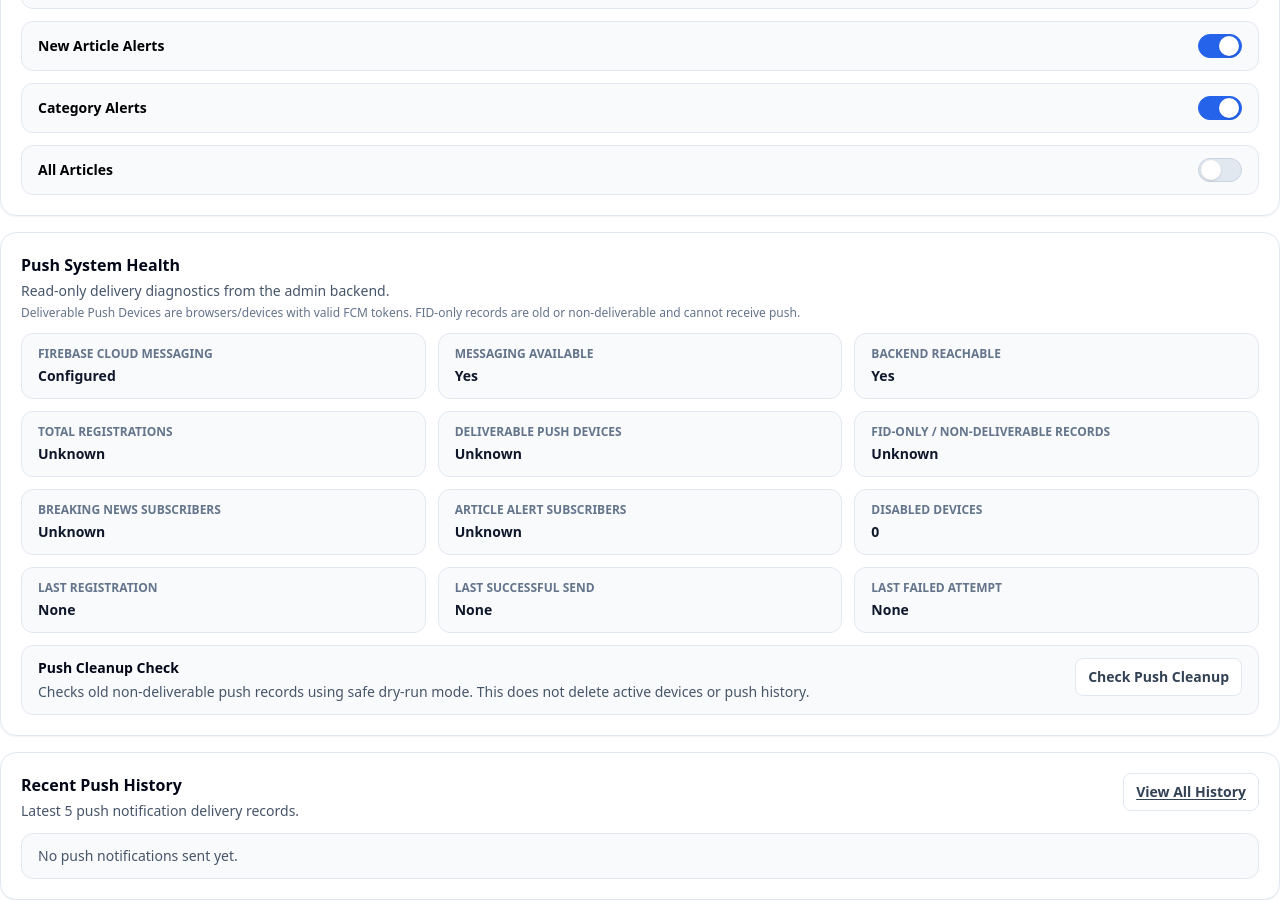
it: PushNotificationsSettings › checks cleanup preview and shows clean dry-run results when no records are eligible
(page scrolled)
Check: the text "Configured" is shown, box [38,366,116,385]
Click the button "Check Push Cleanup". click: [1159, 677]
box: [1075,658,1242,696]
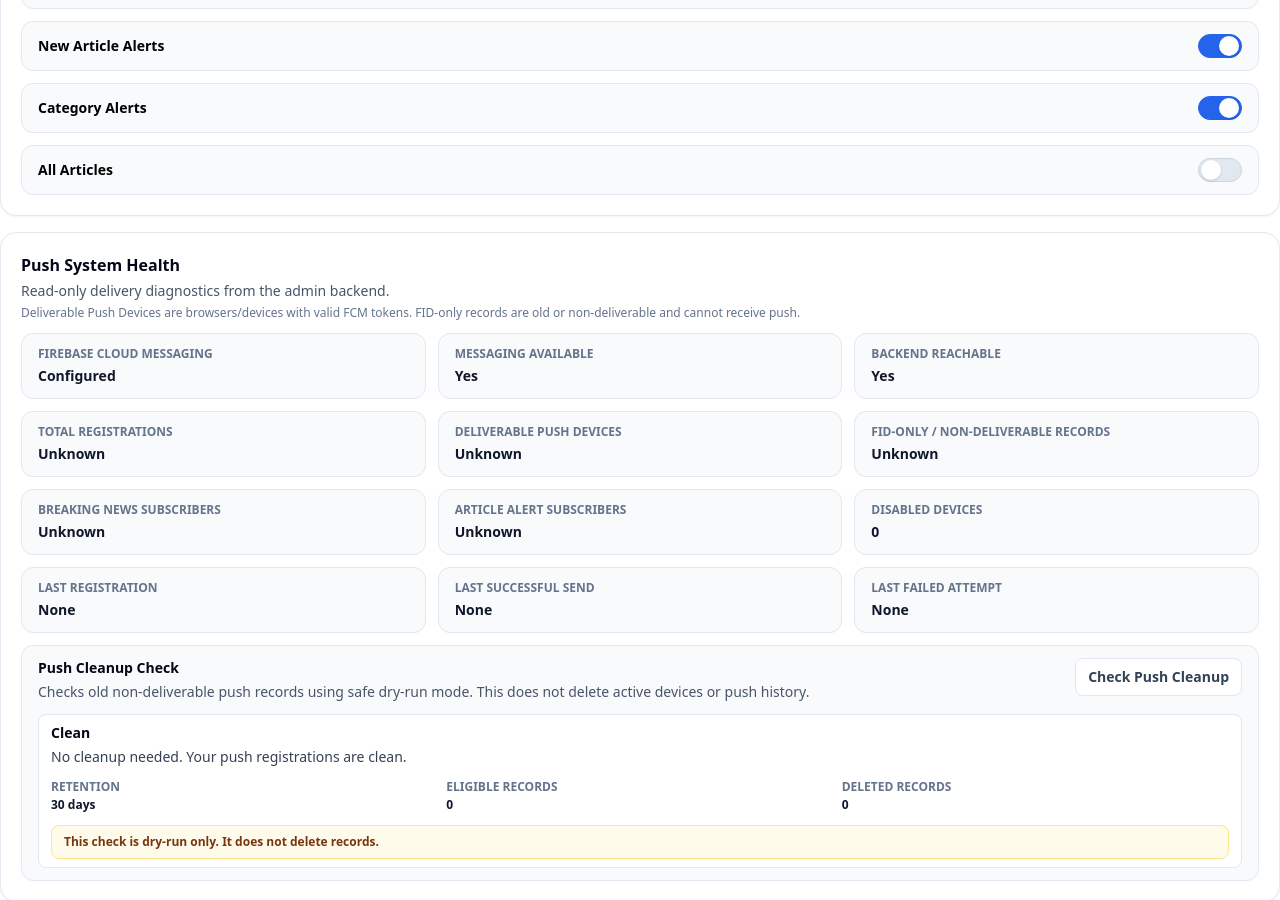
Check: the text "Clean" is shown, box [51,723,90,742]
Check: the text "No cleanup needed. Your push registrations are clean." is shown, box [51,747,407,766]
Check: the text "30 days" is shown, box [51,796,96,813]
